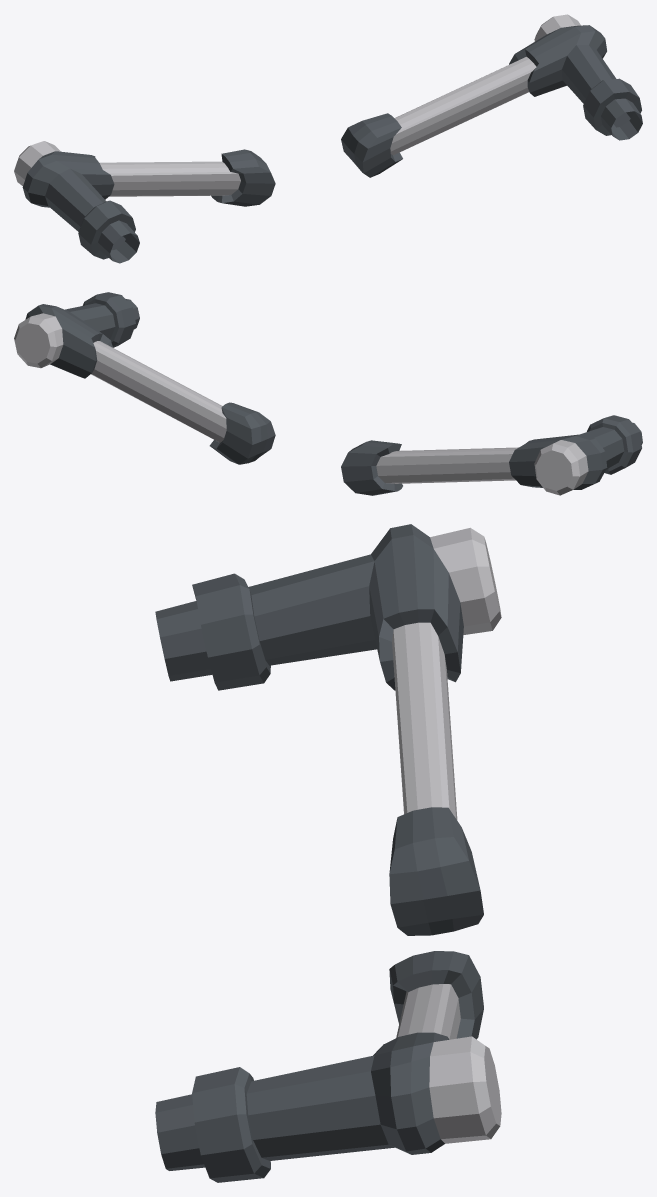
The model's file is Personal_Vehicle_02_Handle_Bars.fbx.
The picture shows the model from 3 angles, top to bottom: view 1: azimuth 30°, elevation 25°; view 2: azimuth 150°, elevation 25°; view 3: azimuth 270°, elevation 25°; orthographic projection. The views are drawn at different scales.
Parts seen in each view (by area): view 1: Personal_Vehicle_02_Handle_Bars; view 2: Personal_Vehicle_02_Handle_Bars; view 3: Personal_Vehicle_02_Handle_Bars.
Boxes of the visible parts, x1,y1,x2,y2 form: Personal_Vehicle_02_Handle_Bars: (14, 14, 642, 263); Personal_Vehicle_02_Handle_Bars: (14, 292, 642, 495); Personal_Vehicle_02_Handle_Bars: (155, 524, 501, 1182).
Size of the model in its own units: 50.49 by 8.54 by 13.05.
1 material, 1 textured.
